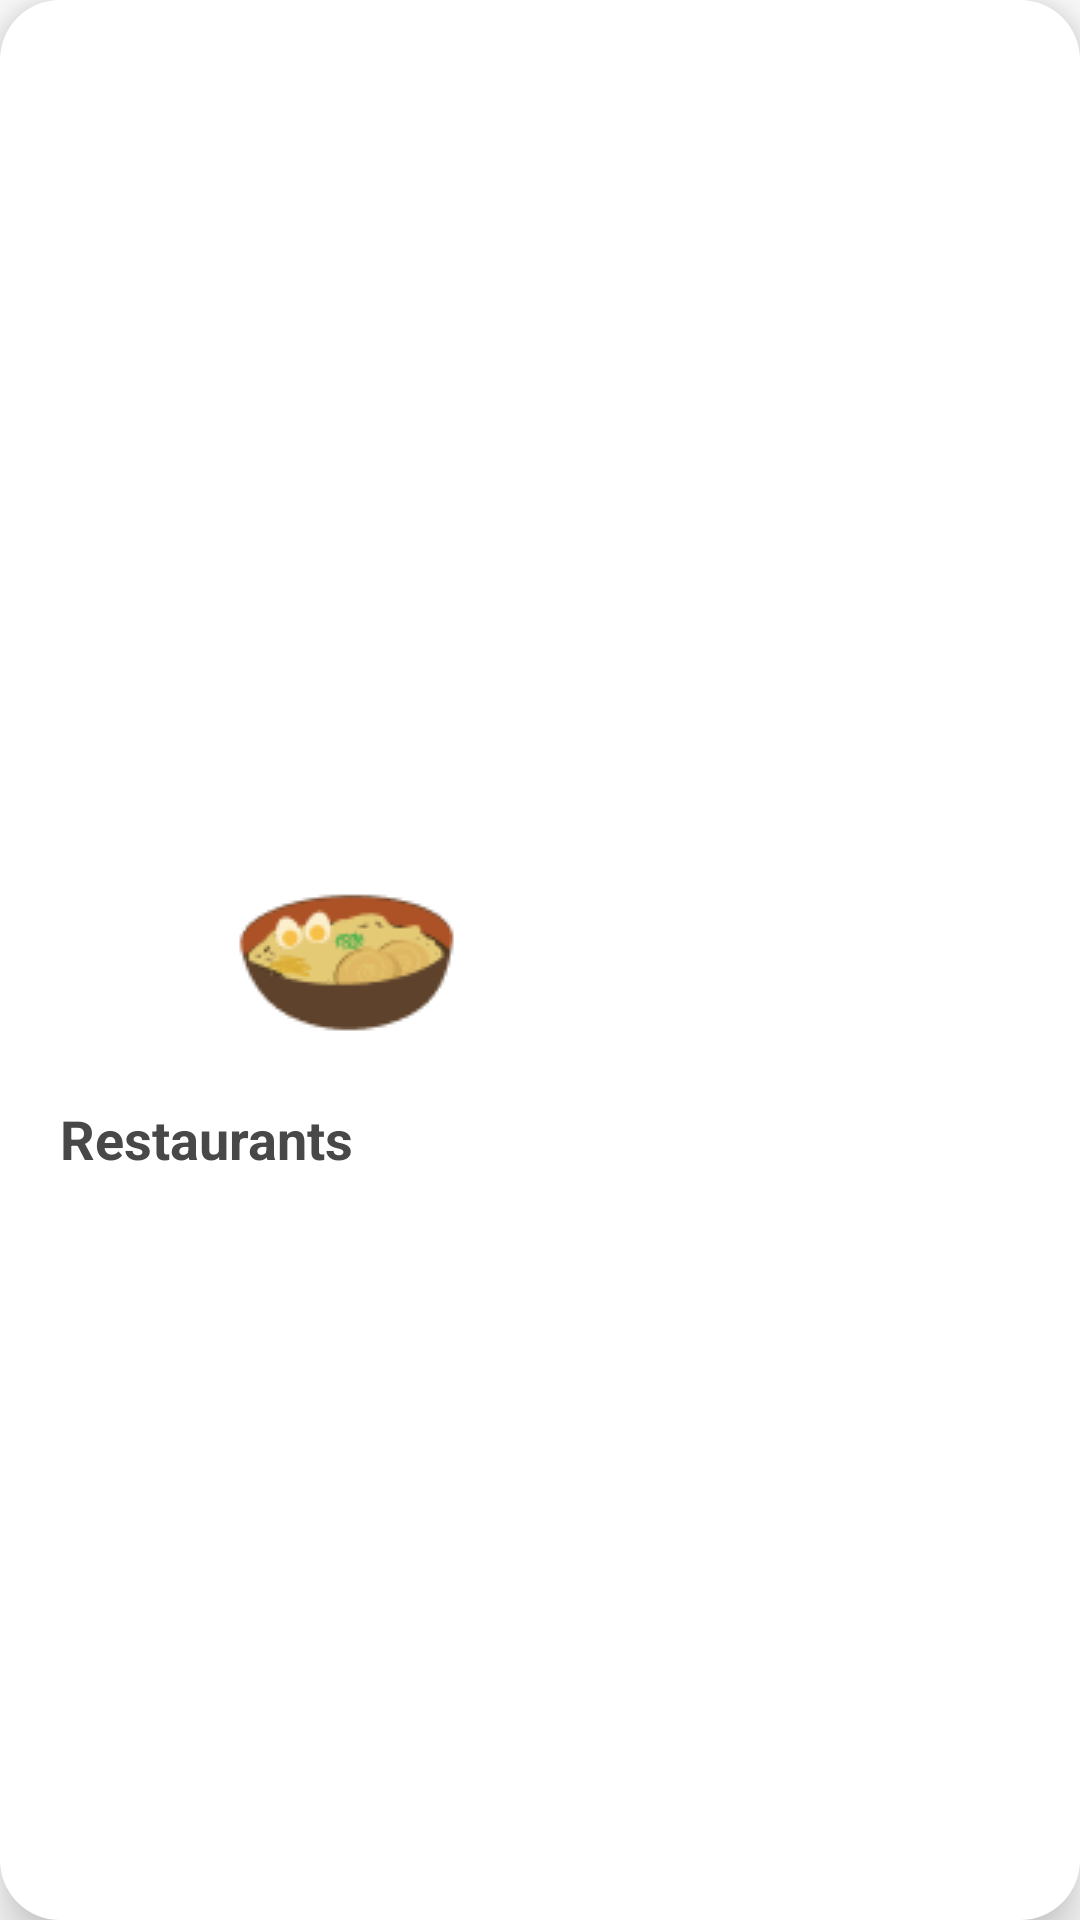

Where icons sit on this 1080px x 1920px app screen, as BBox(x1, y1, x2, y2):
ramen: BBox(239, 894, 454, 1031)
